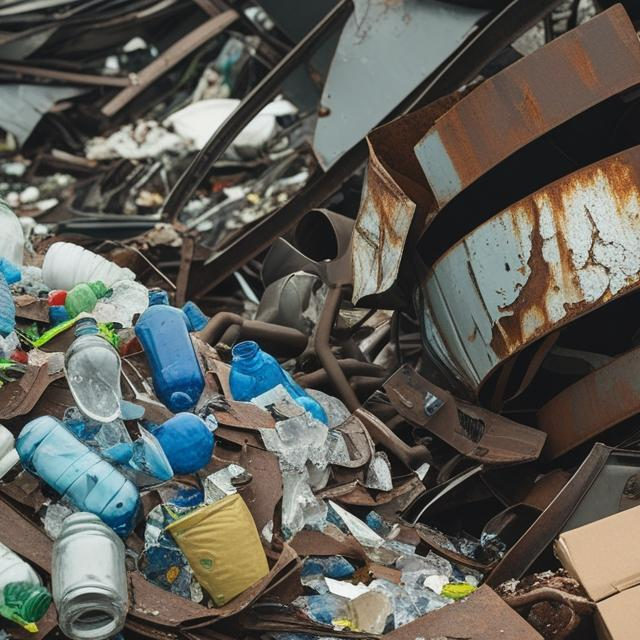plastic: (140, 303, 209, 406)
